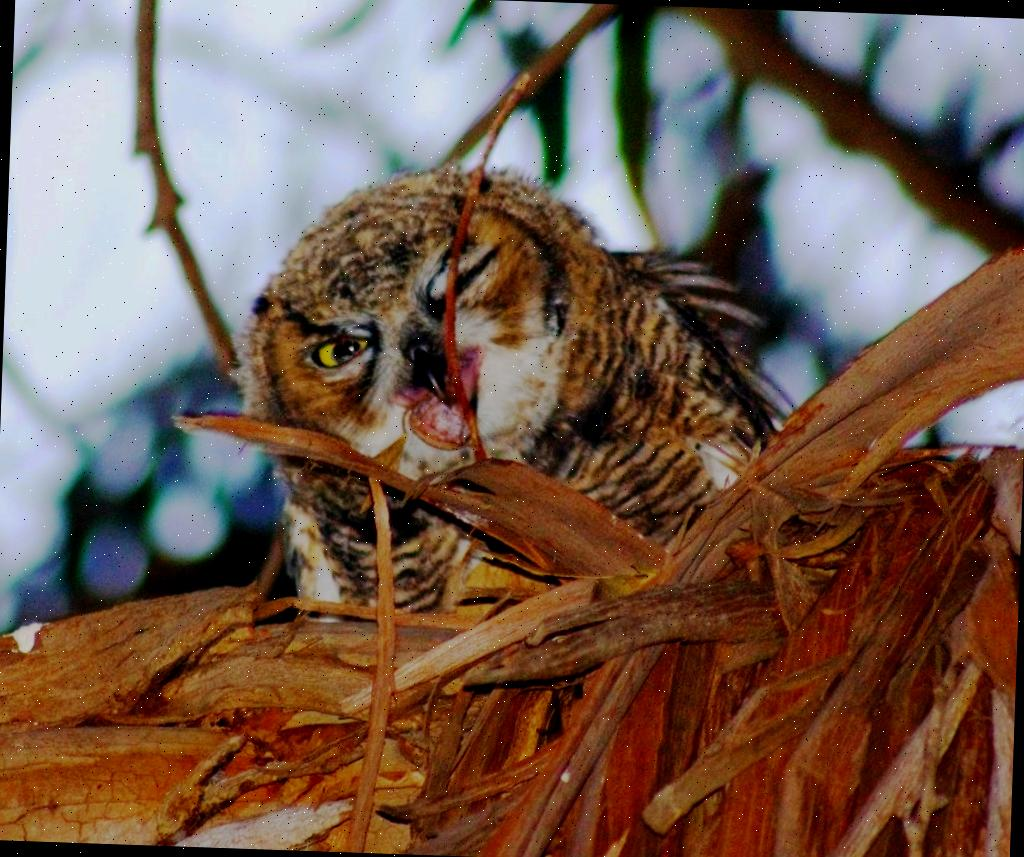Owl: (224, 146, 807, 640)
